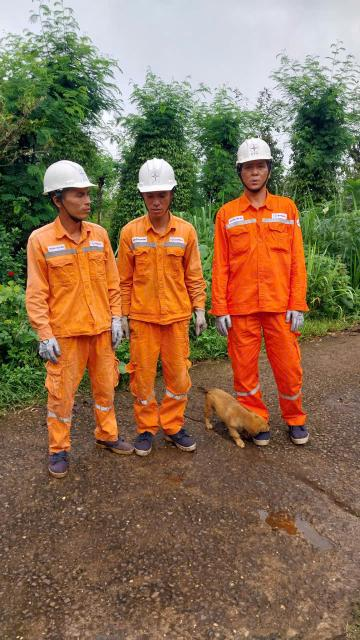gloves: (102, 306, 134, 357), (280, 301, 311, 334), (210, 303, 240, 334), (35, 338, 68, 366), (186, 305, 209, 339)
helmet: (27, 152, 107, 206), (132, 156, 189, 199), (231, 132, 285, 169)
shoes: (92, 427, 137, 467), (39, 445, 84, 484), (279, 416, 323, 452), (159, 421, 204, 456), (248, 417, 281, 453), (130, 426, 159, 459)
